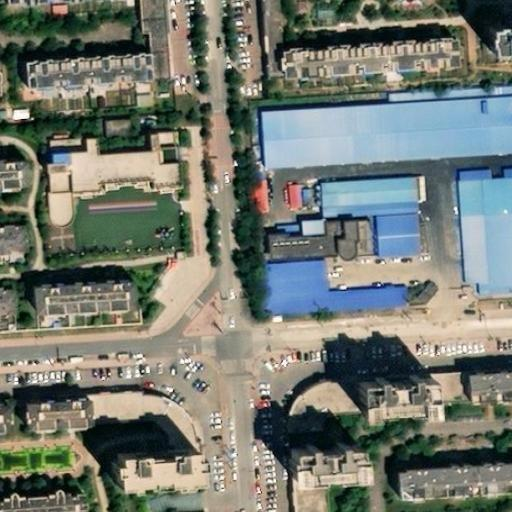building: (269, 110, 512, 186), (50, 152, 182, 240), (459, 191, 512, 310), (95, 411, 195, 469), (290, 53, 468, 85), (288, 398, 364, 461), (273, 239, 380, 279), (323, 193, 421, 235), (30, 69, 144, 103), (403, 478, 512, 512), (122, 468, 210, 508), (42, 286, 134, 323), (140, 0, 173, 103), (266, 277, 330, 328), (363, 394, 441, 435), (289, 458, 363, 494), (30, 413, 96, 452), (259, 0, 283, 95), (378, 231, 423, 279), (329, 302, 407, 326), (472, 390, 512, 423), (241, 163, 266, 214), (440, 393, 473, 424), (290, 492, 338, 512), (0, 241, 26, 276), (0, 179, 26, 206), (99, 114, 129, 136), (493, 33, 512, 63), (0, 300, 14, 337), (0, 421, 13, 450), (5, 102, 28, 118)
